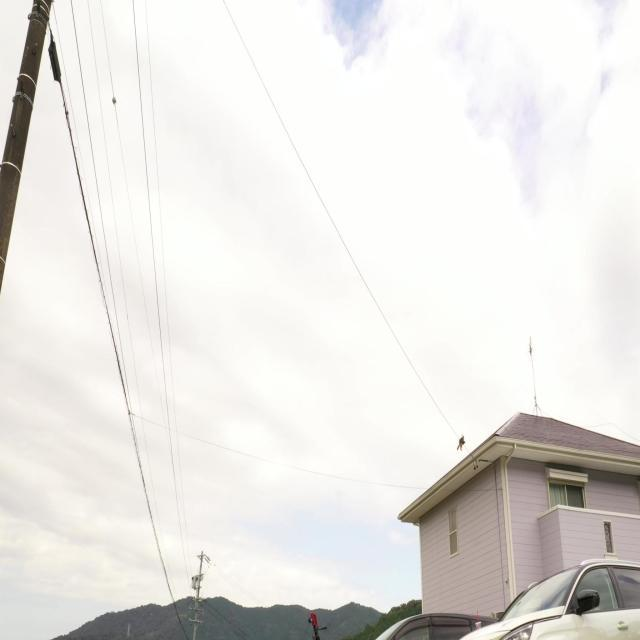Birds: (454, 418, 474, 464)
